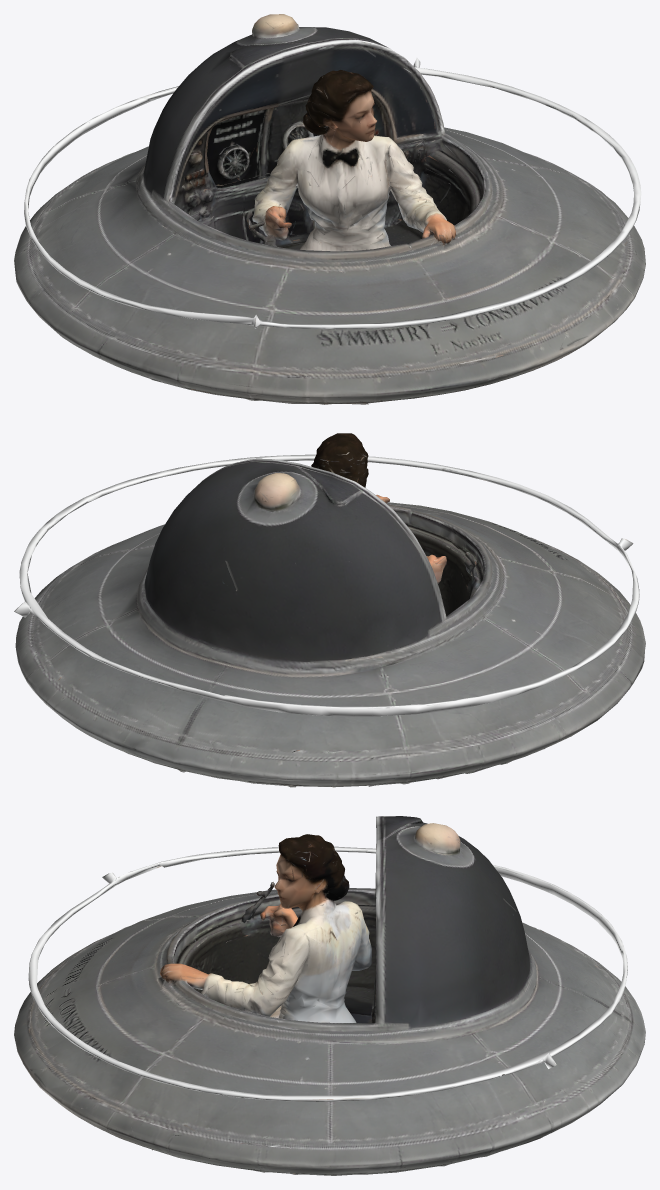
Rendered from Meshy_AI_Symmetry_to_Conservat_0519151601_texture.obj.
3 renders of one model, top to bottom at view 1: azimuth 30°, elevation 25°; view 2: azimuth 150°, elevation 25°; view 3: azimuth 270°, elevation 25°, orthographic.
Parts seen in each view (by area): view 1: Meshy_AI_Symmetry_to_Conservat_0519151601_texture; view 2: Meshy_AI_Symmetry_to_Conservat_0519151601_texture; view 3: Meshy_AI_Symmetry_to_Conservat_0519151601_texture.
Boxes of the visible parts, x1,y1,x2,y2 form: Meshy_AI_Symmetry_to_Conservat_0519151601_texture: (14, 14, 645, 404); Meshy_AI_Symmetry_to_Conservat_0519151601_texture: (14, 433, 645, 787); Meshy_AI_Symmetry_to_Conservat_0519151601_texture: (14, 816, 645, 1175).
Bounding box in the file's own units: 1.91 × 1 × 1.91.
Materials: 1 (1 with a texture image).
